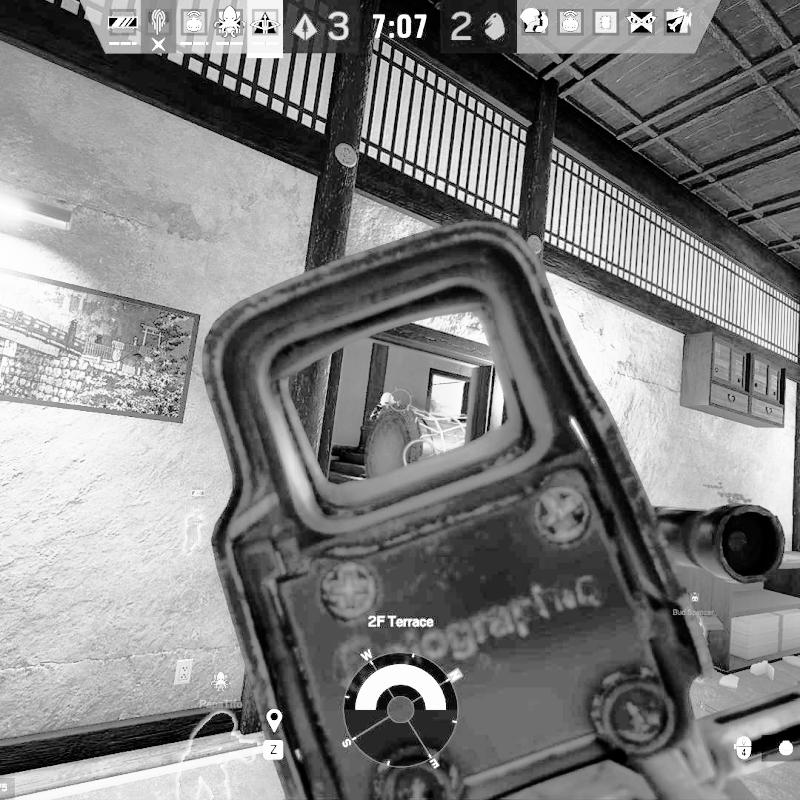Character: (366, 389, 400, 422)
Friend_label: (196, 668, 246, 713), (670, 590, 719, 618), (175, 484, 220, 514)
Head: (377, 389, 396, 408)
